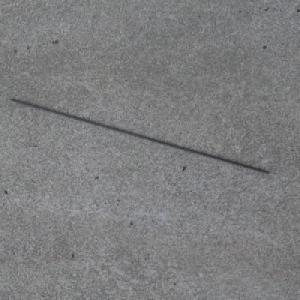LuggagePart: (8, 97, 270, 174)
